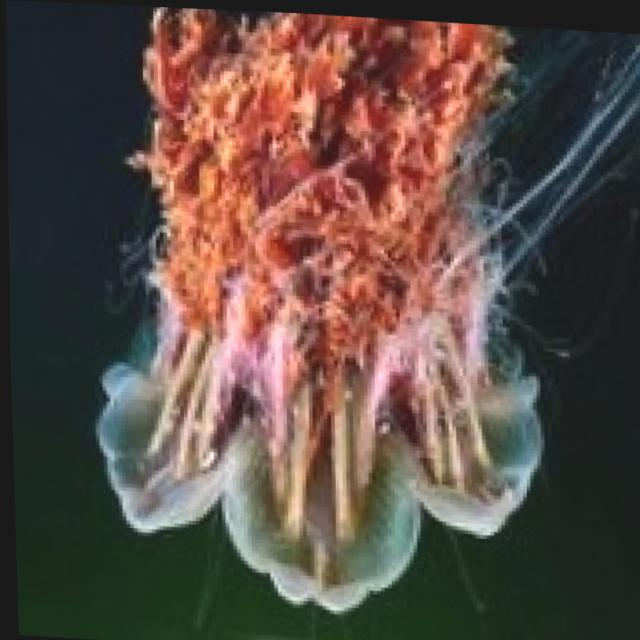Jellyfish: (80, 3, 640, 630)
